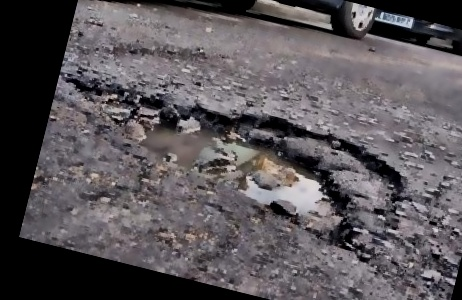pothole: (40, 61, 415, 271)
